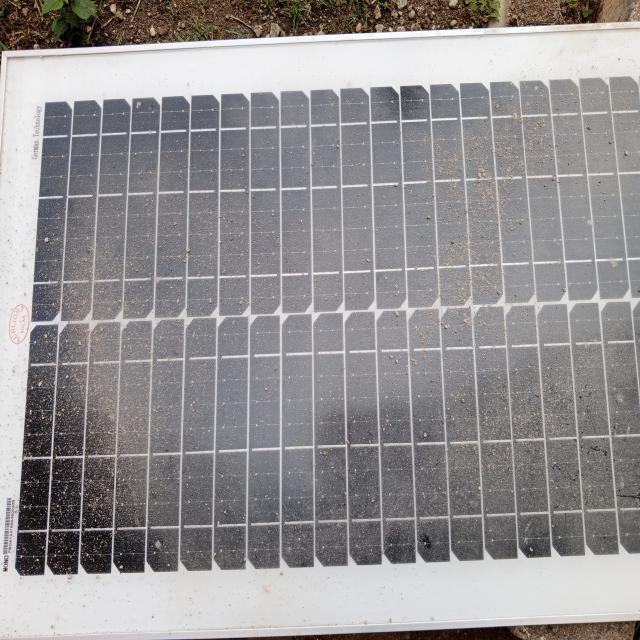Surface Contaminant: (26, 88, 639, 572)
